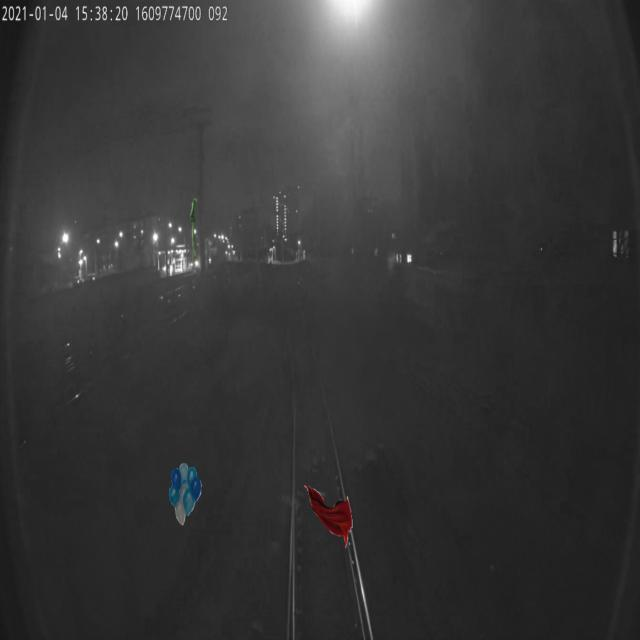balloon: (169, 462, 202, 526)
floating object: (304, 484, 352, 548), (190, 198, 197, 262)
